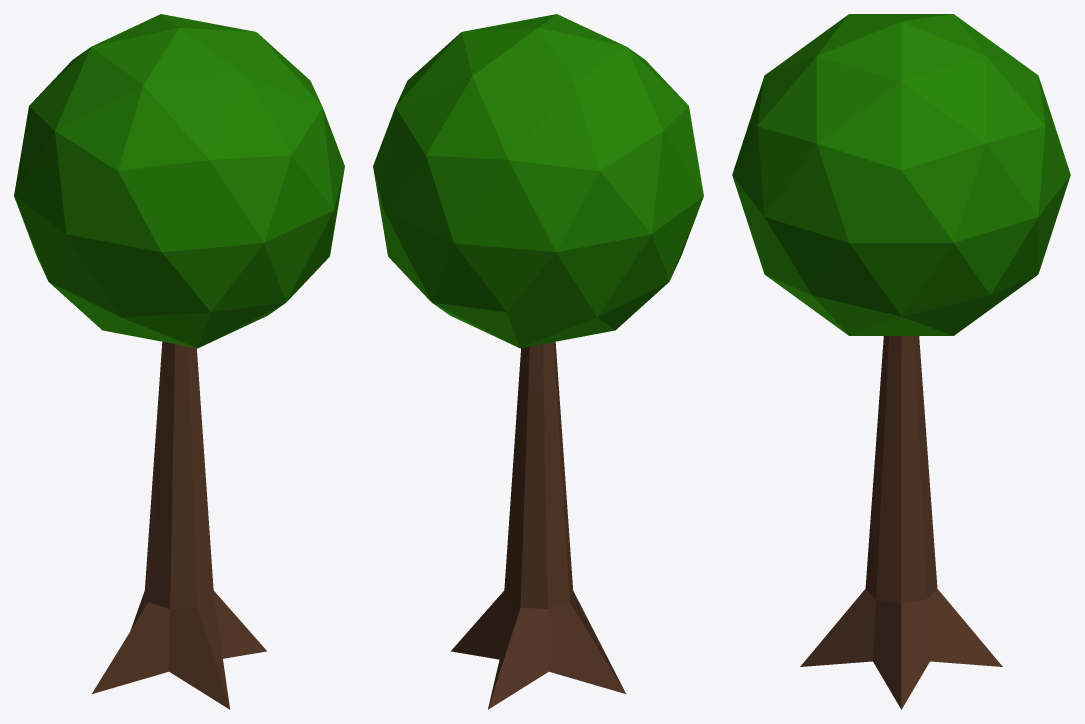
The model's file is tree_03.glb.
The picture shows the model from 3 angles, left to right: view 1: azimuth 30°, elevation 25°; view 2: azimuth 150°, elevation 25°; view 3: azimuth 270°, elevation 25°; orthographic projection.
Visible parts, largest first — view 1: Tree03; view 2: Tree03; view 3: Tree03.
Part boxes in pixels (x1,y1,x2,y2): Tree03: [14, 14, 344, 709]; Tree03: [373, 14, 703, 709]; Tree03: [732, 14, 1070, 709].
Size of the model in its own units: 3.99 by 8.82 by 4.19.
1 material, 1 textured.
